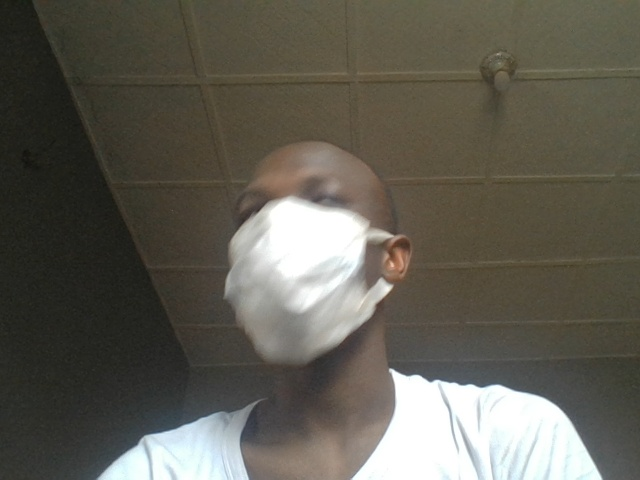Mask: (214, 193, 418, 379)
